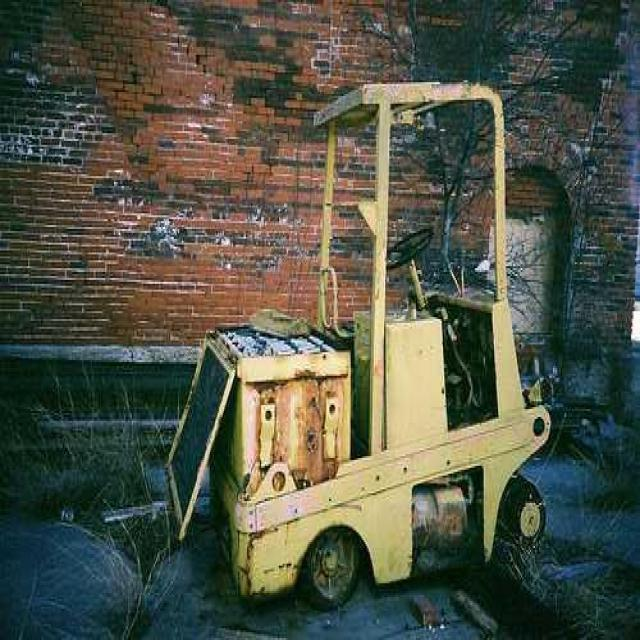forklift: (164, 74, 550, 611)
